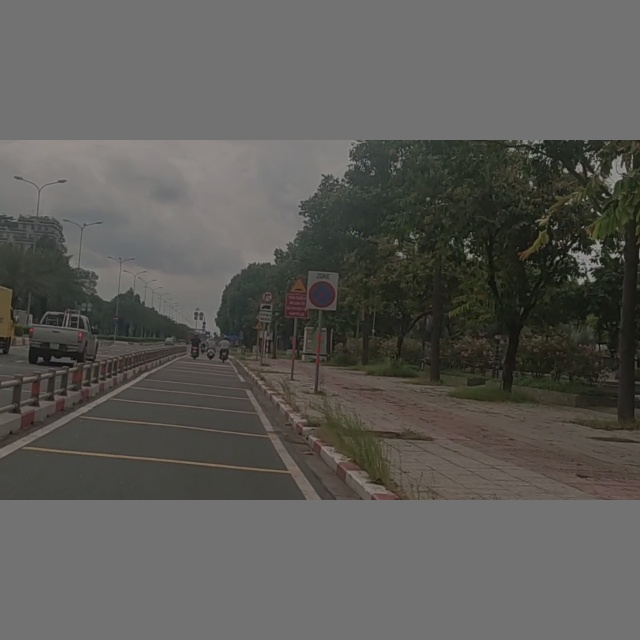P.123b: (261, 291, 273, 303)
P.130: (307, 271, 337, 312)
S.505a*Xe tai: (259, 303, 272, 323)
W.221b: (289, 277, 307, 293)
